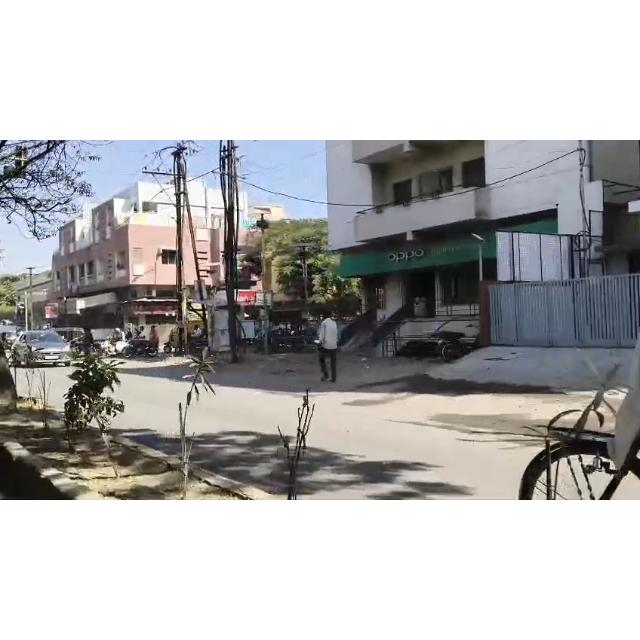car: (11, 329, 95, 374)
